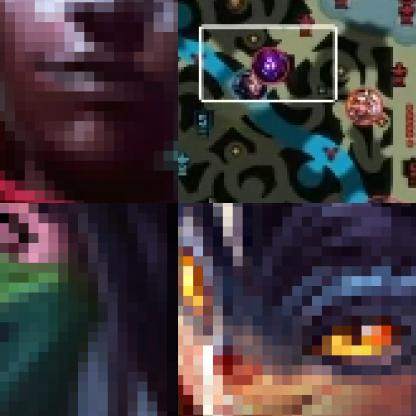Akali: (0, 203, 177, 415)
Ekko: (0, 0, 177, 202)
Leblanc: (232, 69, 270, 104)
Malzahar: (251, 46, 292, 83)
Qiyana: (347, 88, 385, 126)
Rumble: (178, 203, 415, 415)
